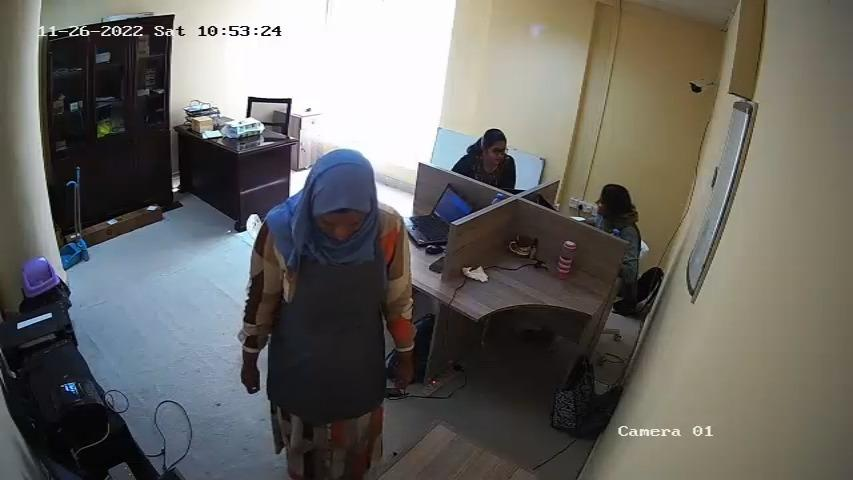apron: (268, 244, 388, 412)
